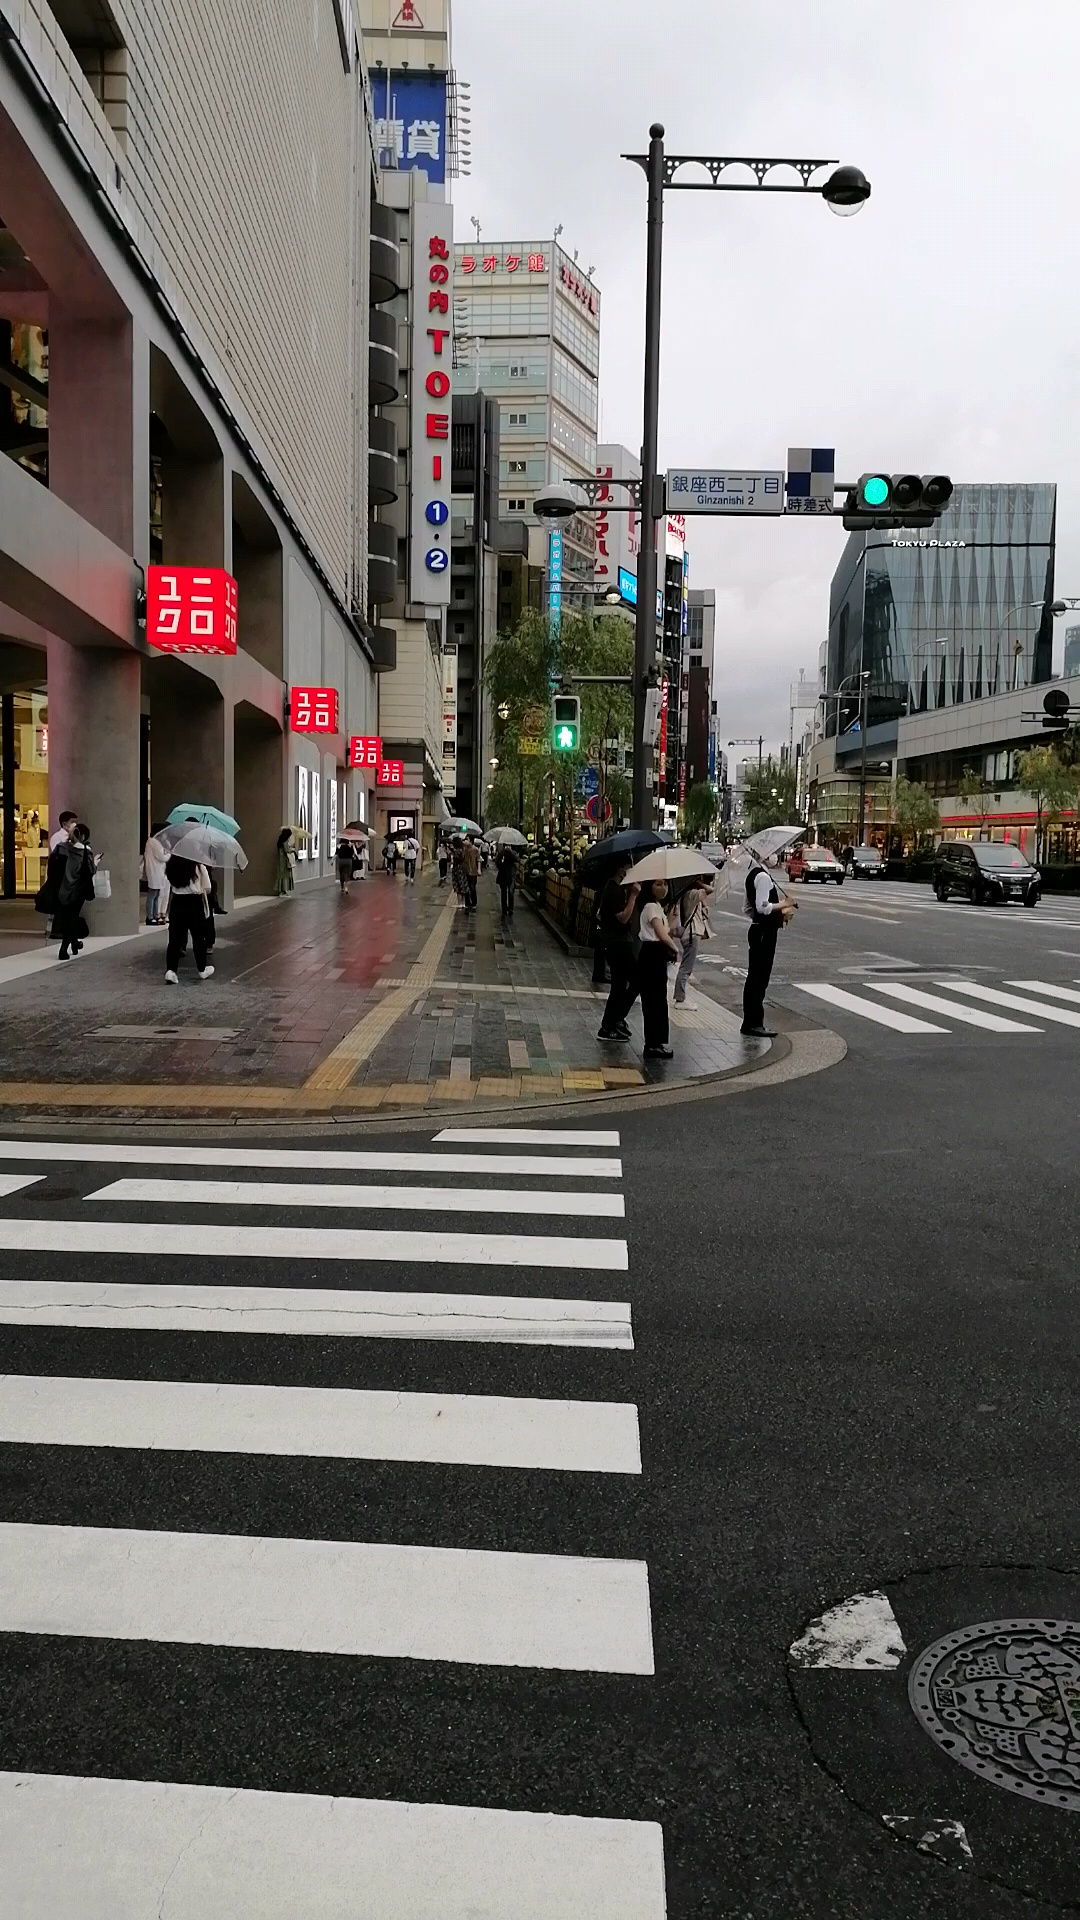green: (549, 694, 582, 752)
